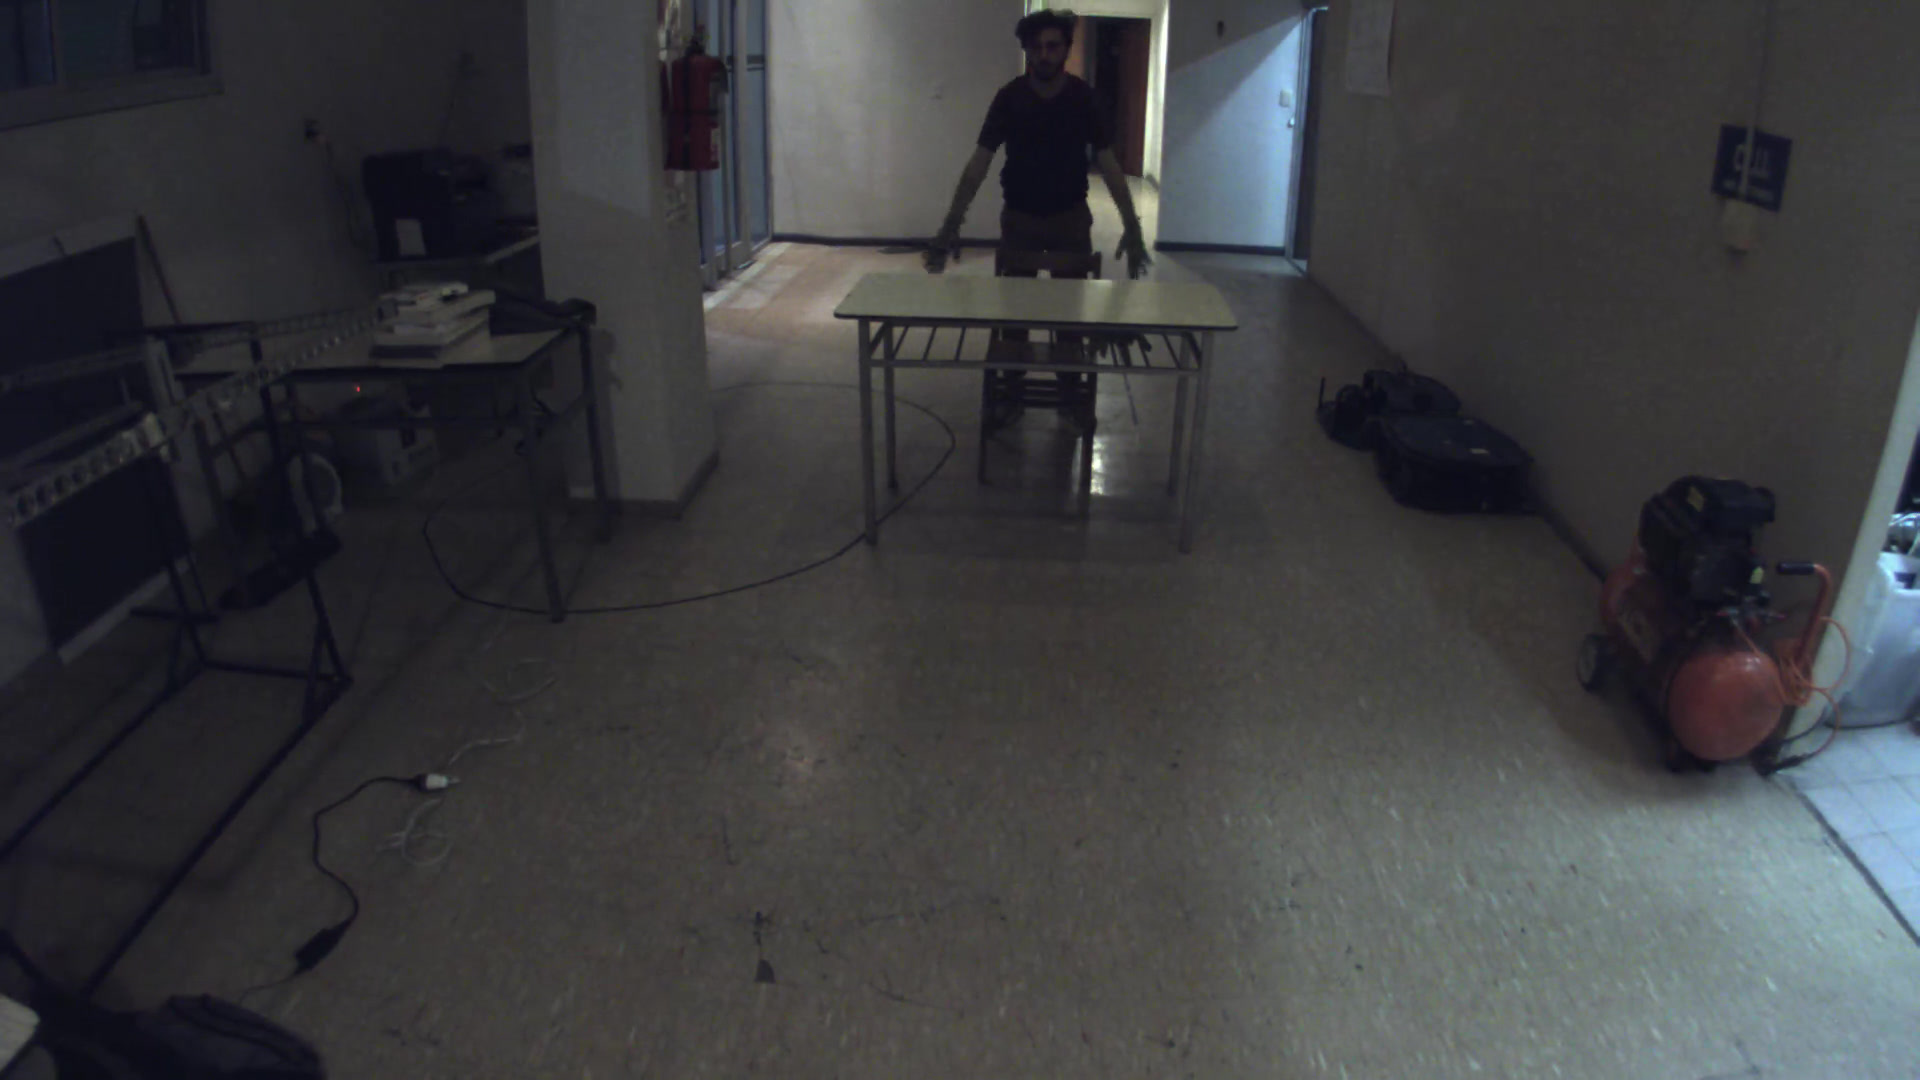hand: (1109, 212, 1168, 272), (918, 210, 973, 266)
